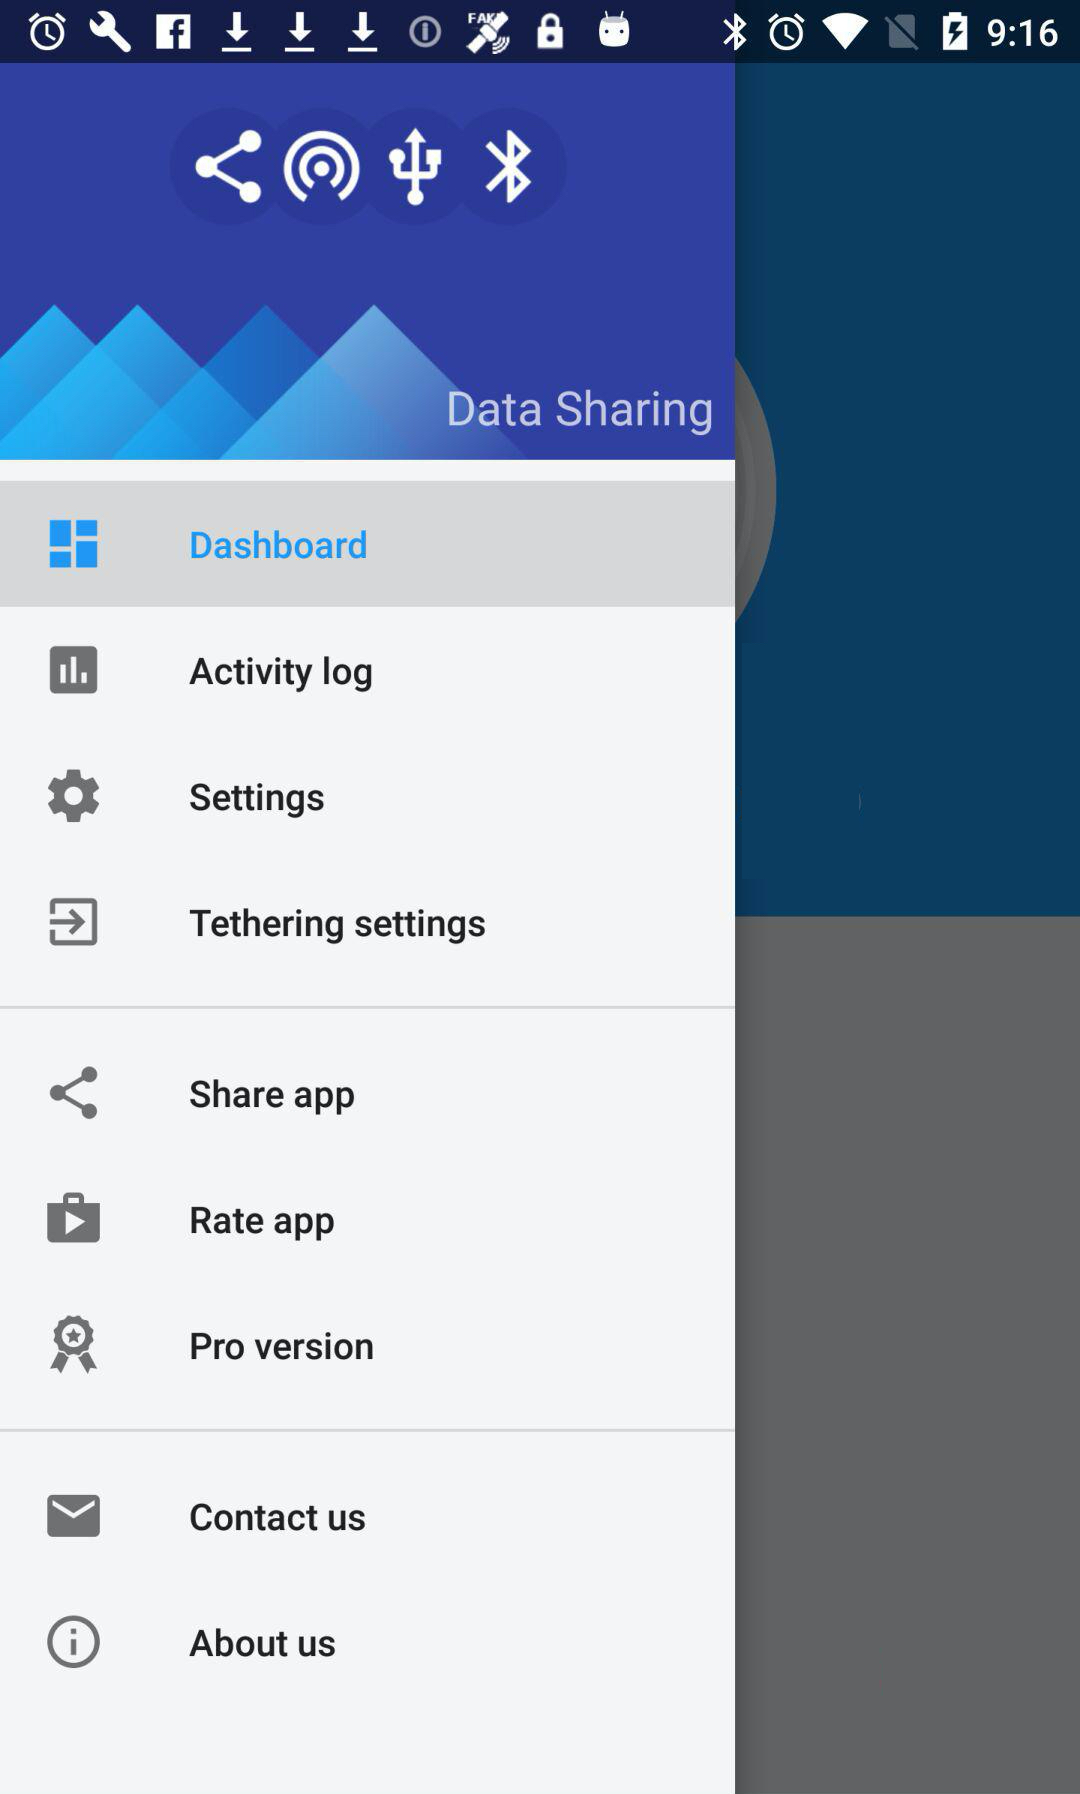Drawer: (1, 65, 735, 1794)
Icon: (195, 129, 264, 206), (484, 129, 534, 206), (47, 1615, 102, 1668), (47, 769, 101, 824), (47, 1192, 102, 1244), (50, 1065, 99, 1120), (49, 519, 100, 570), (49, 897, 99, 947), (49, 645, 99, 695), (47, 1494, 102, 1538)
Image: (282, 129, 363, 204), (388, 127, 443, 208), (49, 1315, 100, 1375)
Text: (448, 390, 714, 438), (190, 907, 487, 946), (190, 655, 373, 695), (190, 1078, 356, 1117), (191, 529, 368, 563), (191, 1331, 375, 1362), (190, 1502, 366, 1533), (191, 1206, 336, 1243), (190, 782, 325, 820), (190, 1627, 337, 1658)
UpperTaskBar: (1, 1, 1080, 64)
